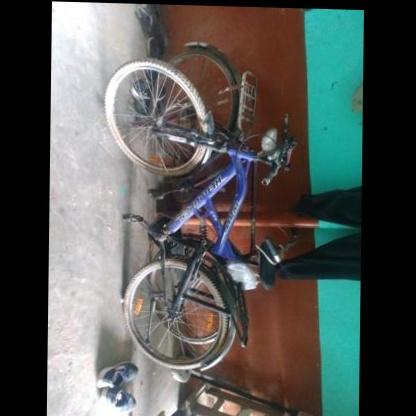Bicycle: (99, 33, 309, 401)
